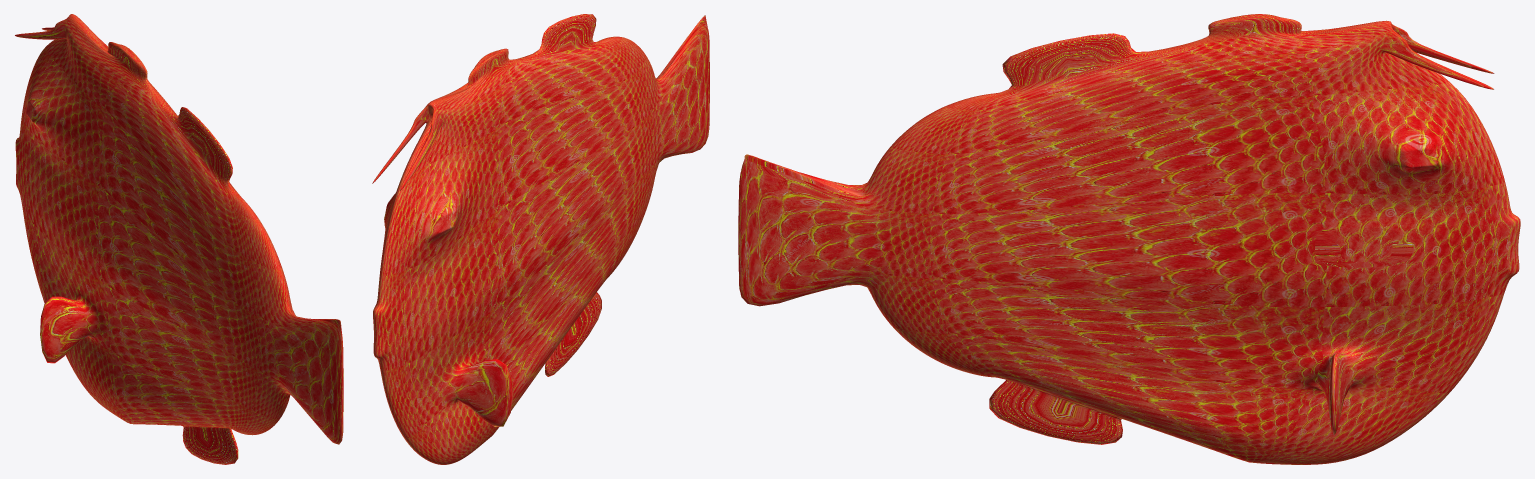
The model's file is red fish.fbx.
The picture shows the model from 3 angles, left to right: view 1: azimuth 30°, elevation 25°; view 2: azimuth 150°, elevation 25°; view 3: azimuth 270°, elevation 25°; orthographic projection. The views are drawn at different scales.
Visible parts, largest first — view 1: pSphere1; view 2: pSphere1; view 3: pSphere1.
Boxes of the visible parts, <box> form: pSphere1: <box>15,14,343,464</box>; pSphere1: <box>372,14,709,464</box>; pSphere1: <box>738,14,1520,464</box>.
Size of the model in its own units: 6.14 by 18.83 by 29.72.
